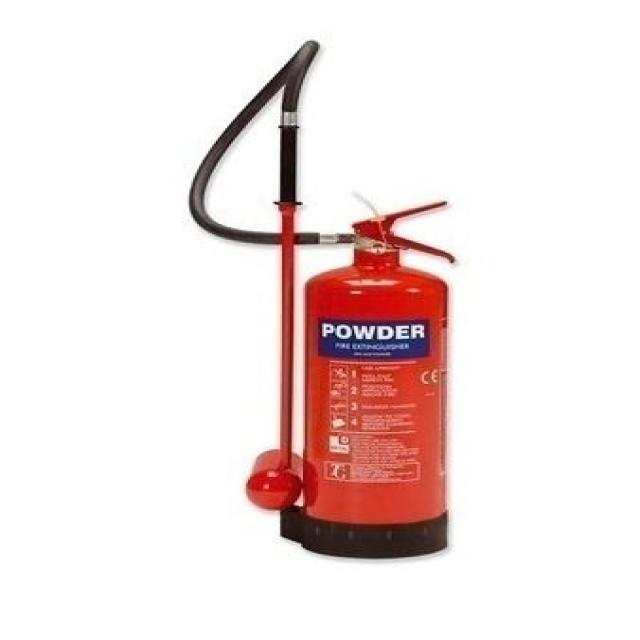fire_extinguisher: (184, 39, 458, 564)
